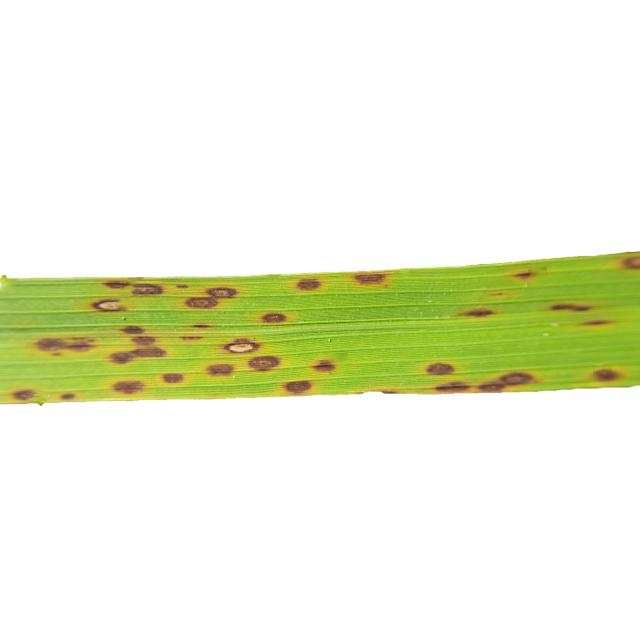Brown spot: (0, 212, 640, 422)
